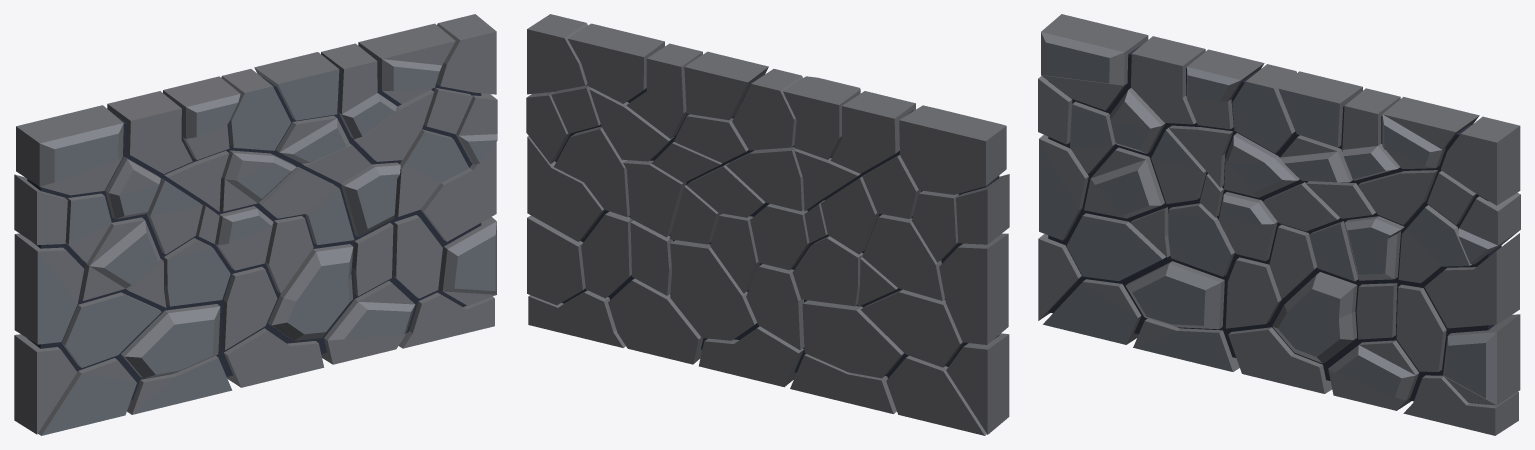
The model's file is wallDevider2.glb.
3 renders of one model, left to right at view 1: azimuth 30°, elevation 25°; view 2: azimuth 150°, elevation 25°; view 3: azimuth 330°, elevation 25°, orthographic.
Bounding box in the file's own units: 6.37 × 3.91 × 0.6509.
Materials: 1 (1 with a texture image).
